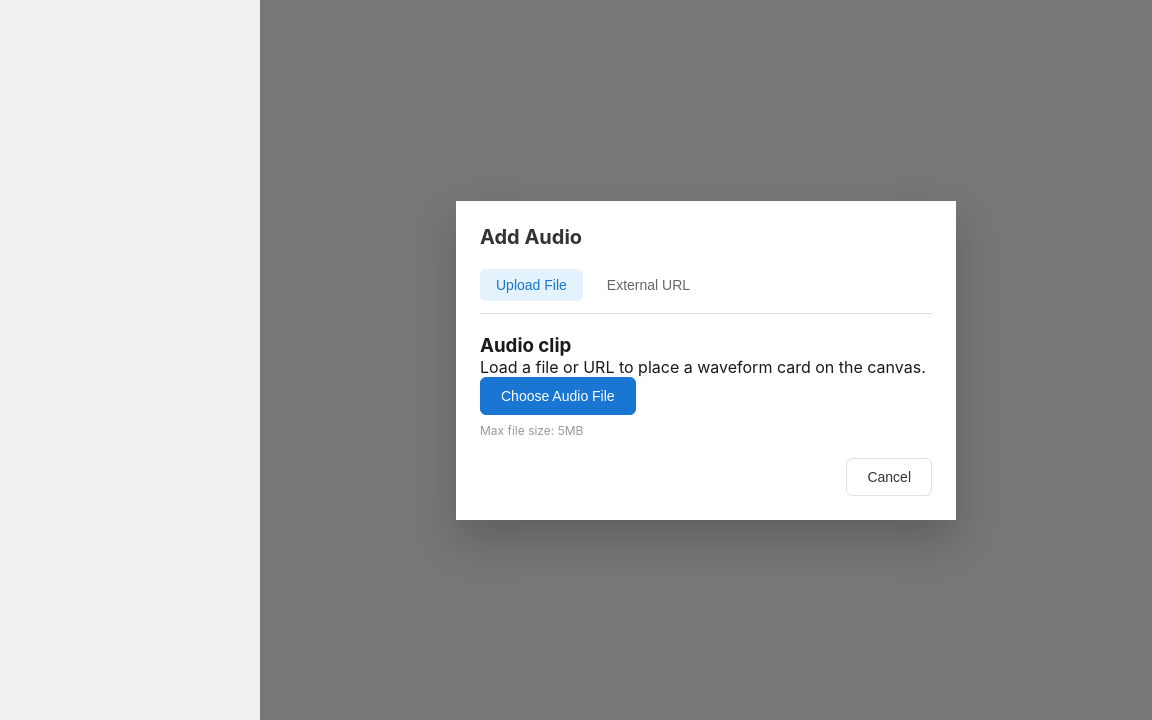
Test: AudioUploadDialog › shows a loader while URL audio metadata and waveform data load
Click the button "External URL". click: x=648, y=284
box: [591,268,706,300]
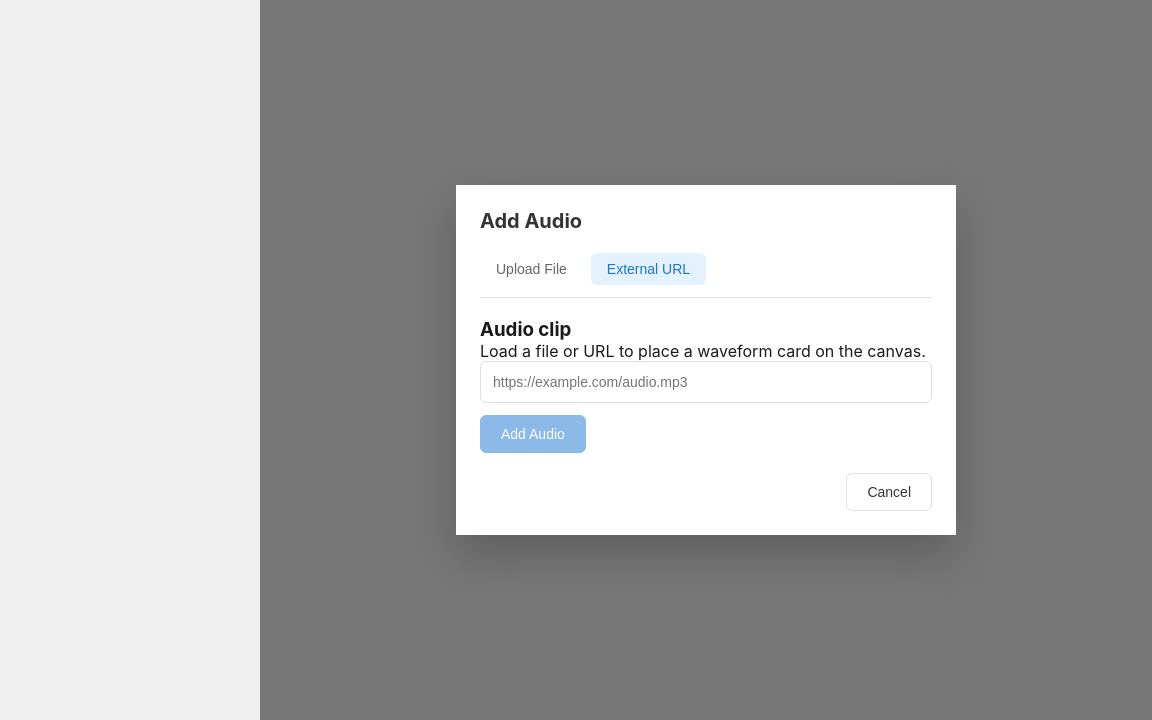
Type "https://example.com/song.mp3" into the field with placeholder "https://example.com/audio.mp3". click: x=706, y=382
box: [480,361,932,403]
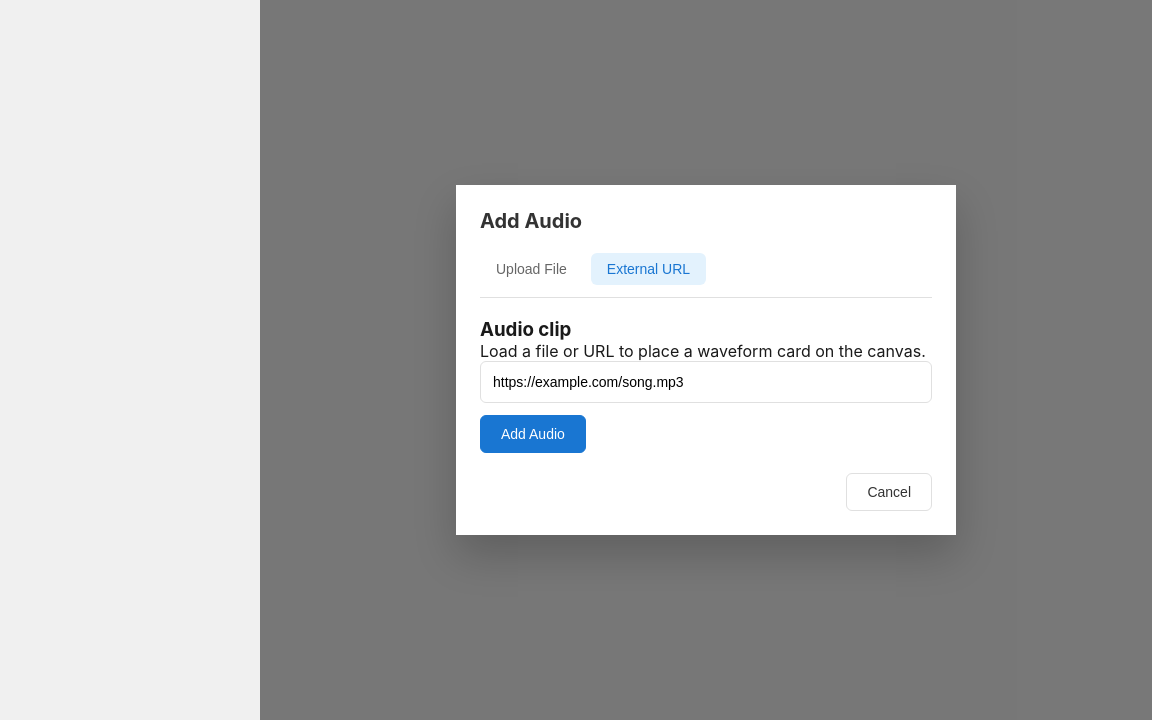
Click the button "Add Audio". click: x=533, y=434
box: [480,415,586,453]
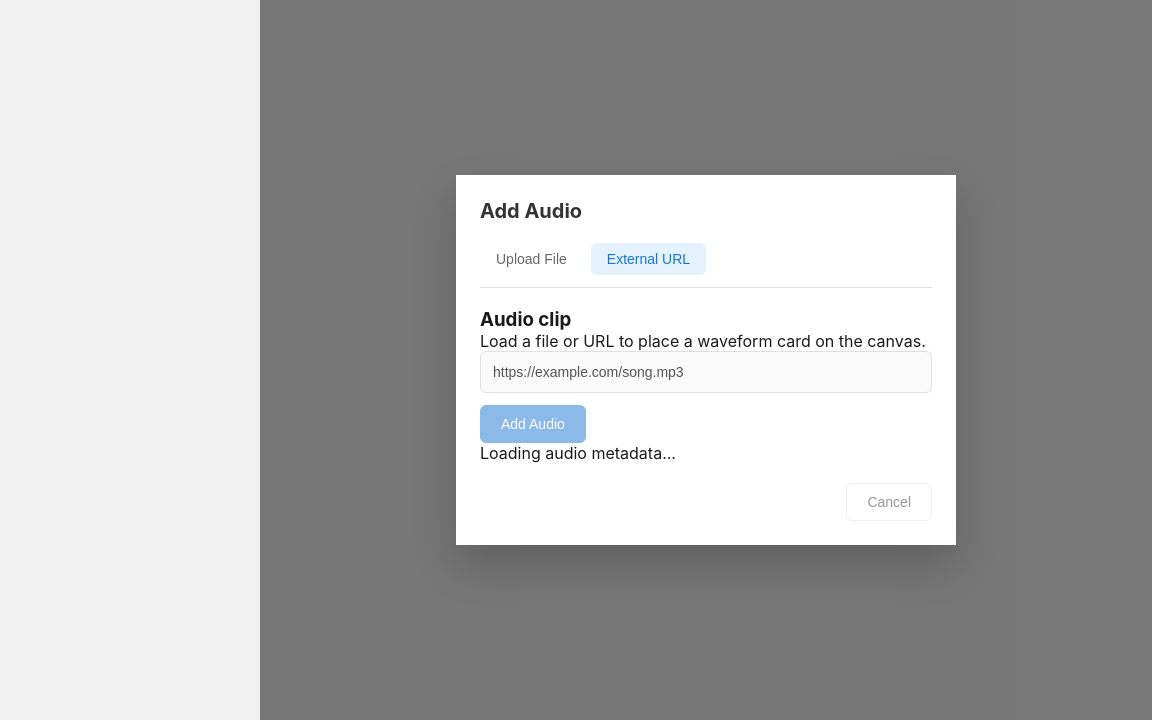
Expected: the message reads "Loading audio metadata...", [480,443,676,463]
